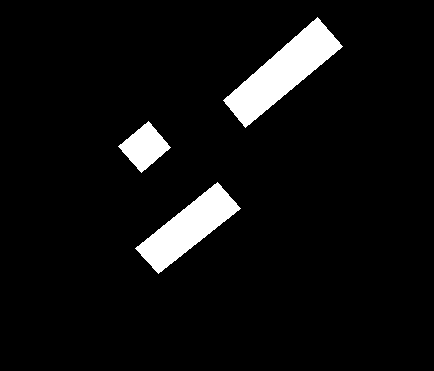parkingspot: (223, 17, 343, 127), (135, 182, 241, 273), (118, 121, 171, 172)
